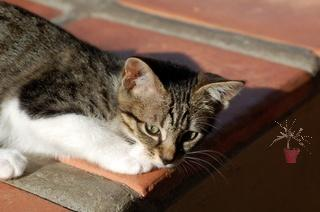tampered: (271, 120, 313, 163)
